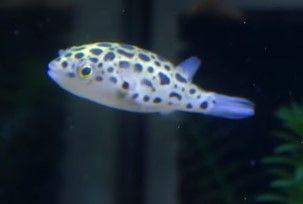Green Spotted Puffer: (44, 39, 256, 122)
